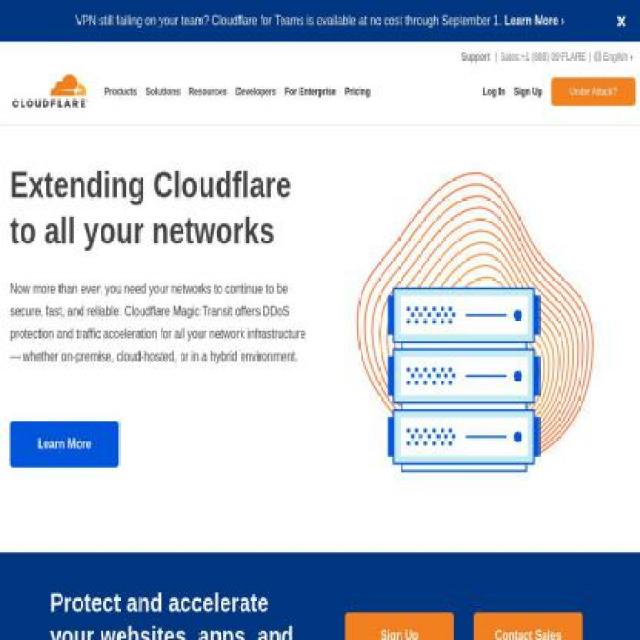button: (0, 58, 100, 125), (10, 421, 119, 468), (279, 59, 341, 123), (474, 612, 583, 640), (346, 612, 454, 640), (509, 59, 548, 123), (551, 77, 635, 106), (340, 59, 375, 123), (478, 59, 510, 123), (504, 11, 565, 31), (520, 49, 586, 66), (594, 49, 634, 66)
